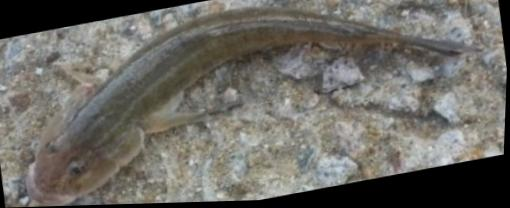fish: (30, 8, 477, 205)
